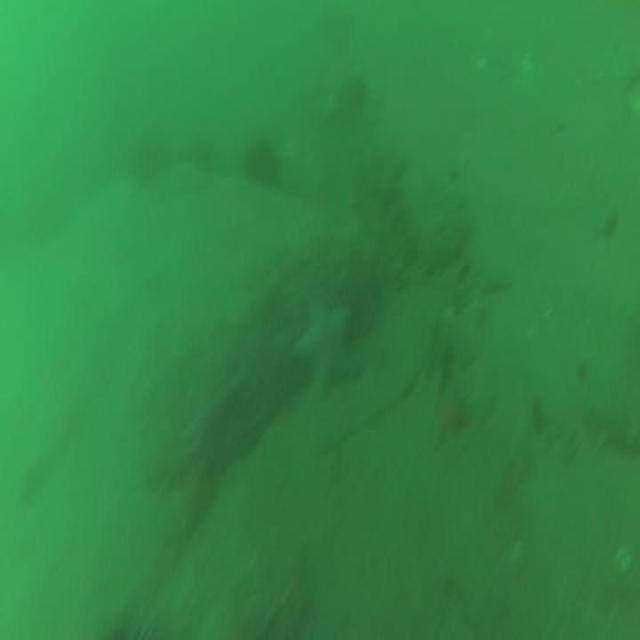echinus: (246, 141, 276, 183)
starfish: (293, 306, 360, 396), (434, 378, 466, 446)
